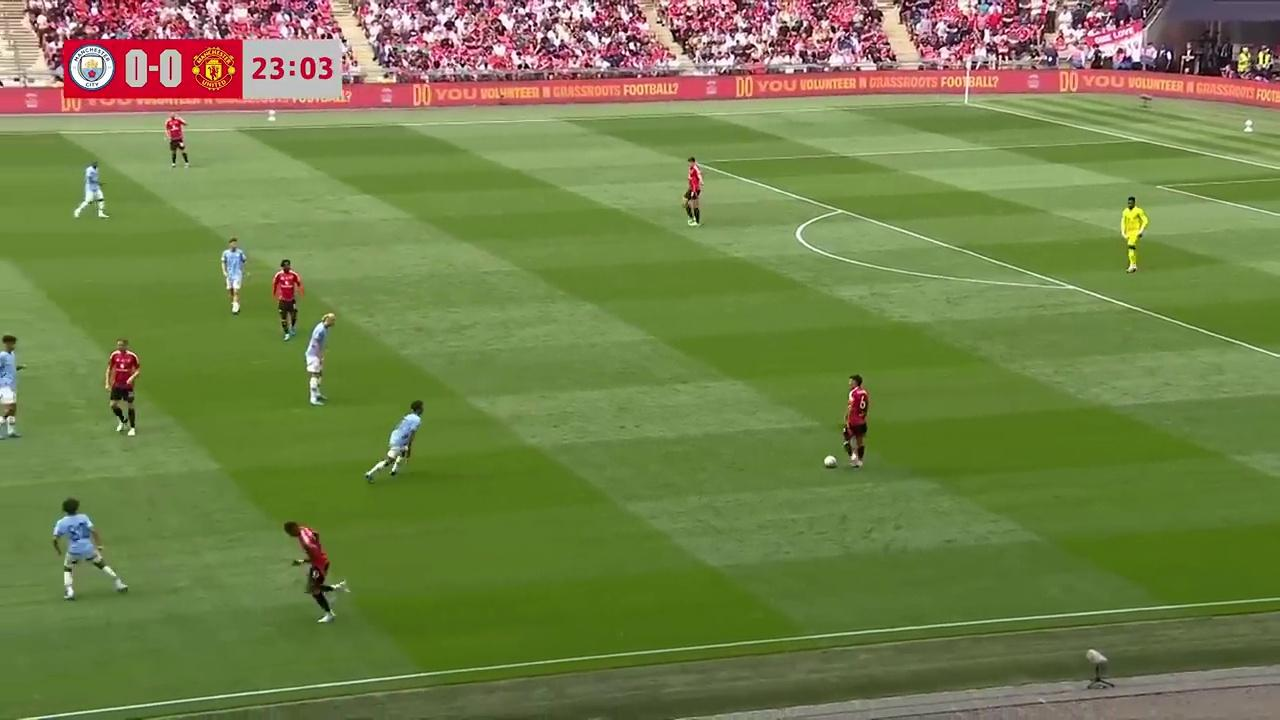ball: (822, 453, 837, 468)
player: (53, 496, 129, 598), (283, 522, 347, 623), (365, 400, 424, 480), (104, 338, 140, 435), (839, 374, 870, 468), (304, 311, 334, 405), (271, 259, 303, 341), (0, 335, 24, 439), (220, 236, 248, 314), (73, 160, 109, 220), (1121, 195, 1147, 273), (164, 111, 189, 169), (682, 157, 702, 226)
